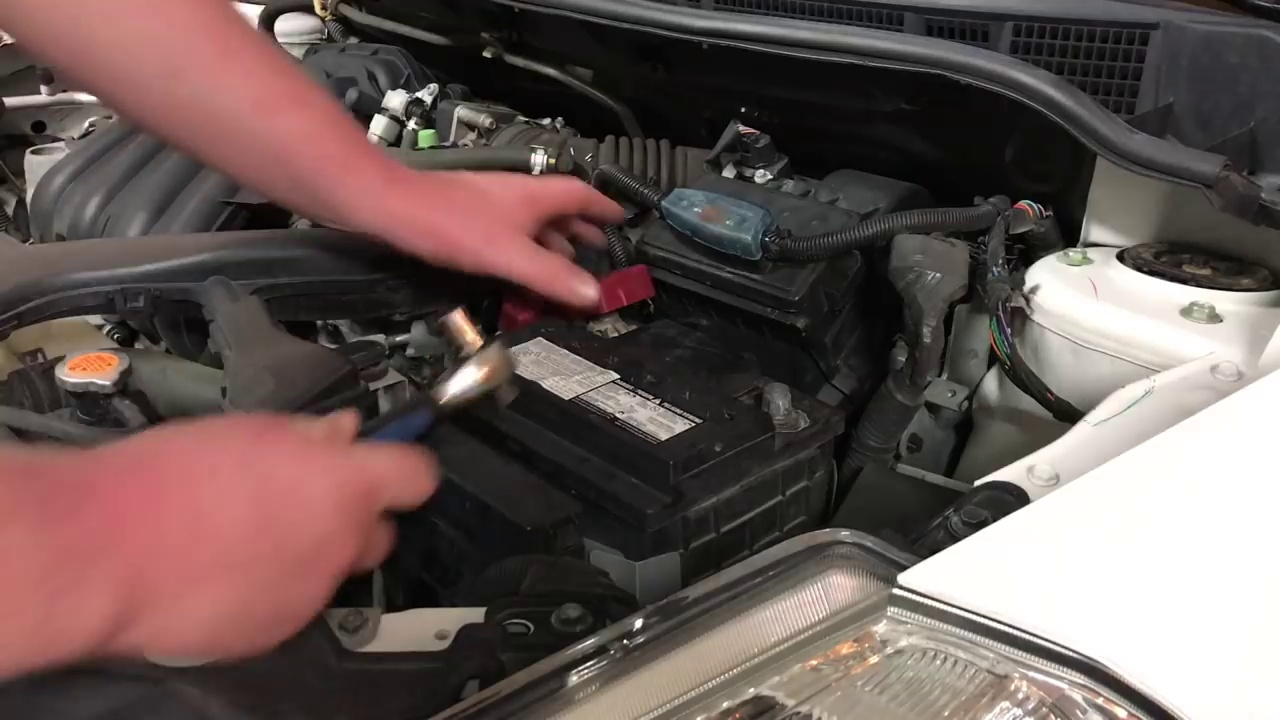battery: (470, 291, 818, 474)
neg_disconnected: (743, 359, 815, 444)
pos_touched: (462, 182, 640, 350)
